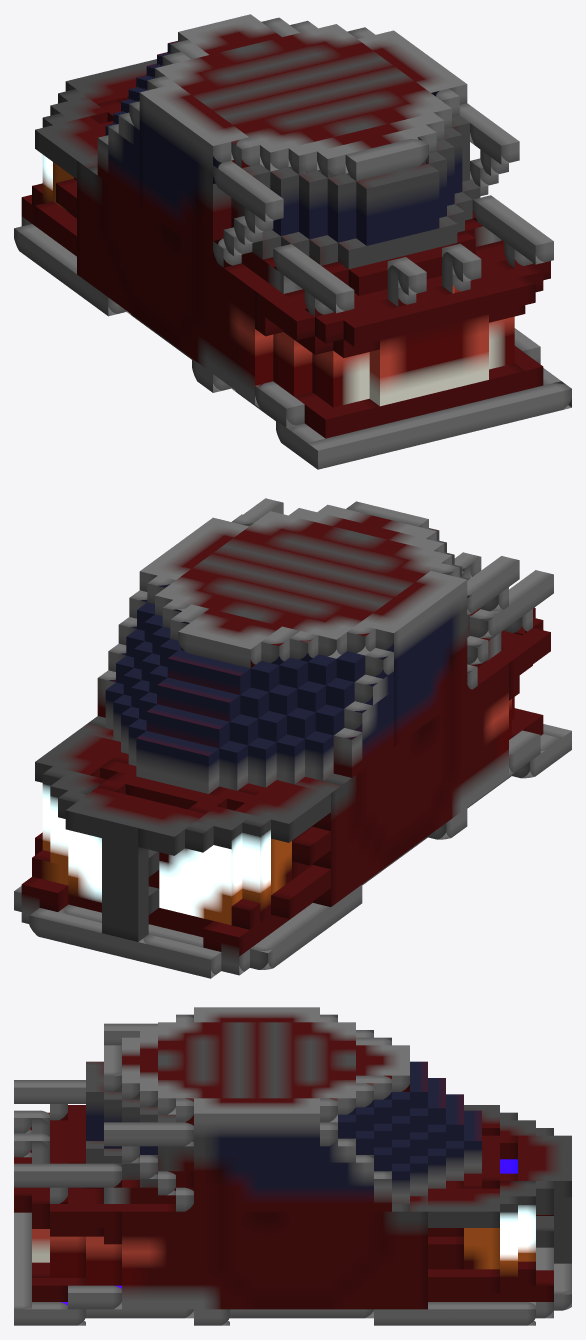
Rendered from auto_02.dae.
3 renders of one model, top to bottom at view 1: azimuth 30°, elevation 25°; view 2: azimuth 150°, elevation 25°; view 3: azimuth 270°, elevation 25°, orthographic. The views are drawn at different scales.
Visible parts, largest first — view 1: Content; view 2: Content; view 3: Content.
Part boxes in pixels (<box>): Content: <box>14,14,571,469</box>; Content: <box>14,498,571,978</box>; Content: <box>14,1007,571,1325</box>.
Bounding box in the file's own units: 14 × 13 × 31.
1 material, 1 textured.
